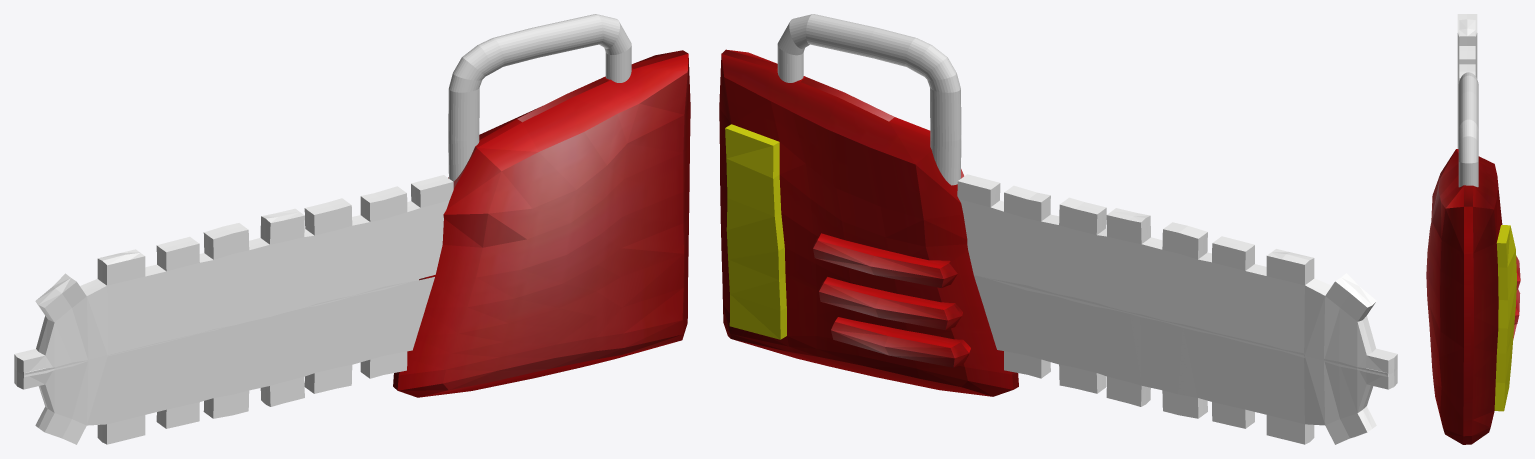
3 renders of one model, left to right at view 1: azimuth 30°, elevation 25°; view 2: azimuth 150°, elevation 25°; view 3: azimuth 270°, elevation 25°, orthographic. The views are drawn at different scales.
Visible parts, largest first — view 1: Sierra, Motor, Cylinder; view 2: Sierra, Motor, Cylinder; view 3: Motor, Cylinder, Sierra.
Part boxes in pixels (<box>): Sierra: <box>14,175,453,444</box>; Motor: <box>393,50,690,397</box>; Cylinder: <box>448,14,631,181</box>; Sierra: <box>957,174,1397,444</box>; Motor: <box>719,49,1018,396</box>; Cylinder: <box>777,14,961,185</box>; Motor: <box>1426,149,1520,444</box>; Cylinder: <box>1458,72,1478,187</box>; Sierra: <box>1457,14,1477,148</box>.
Bounding box in the file's own units: 412 × 203 × 58.51.
4 materials, 1 textured.
